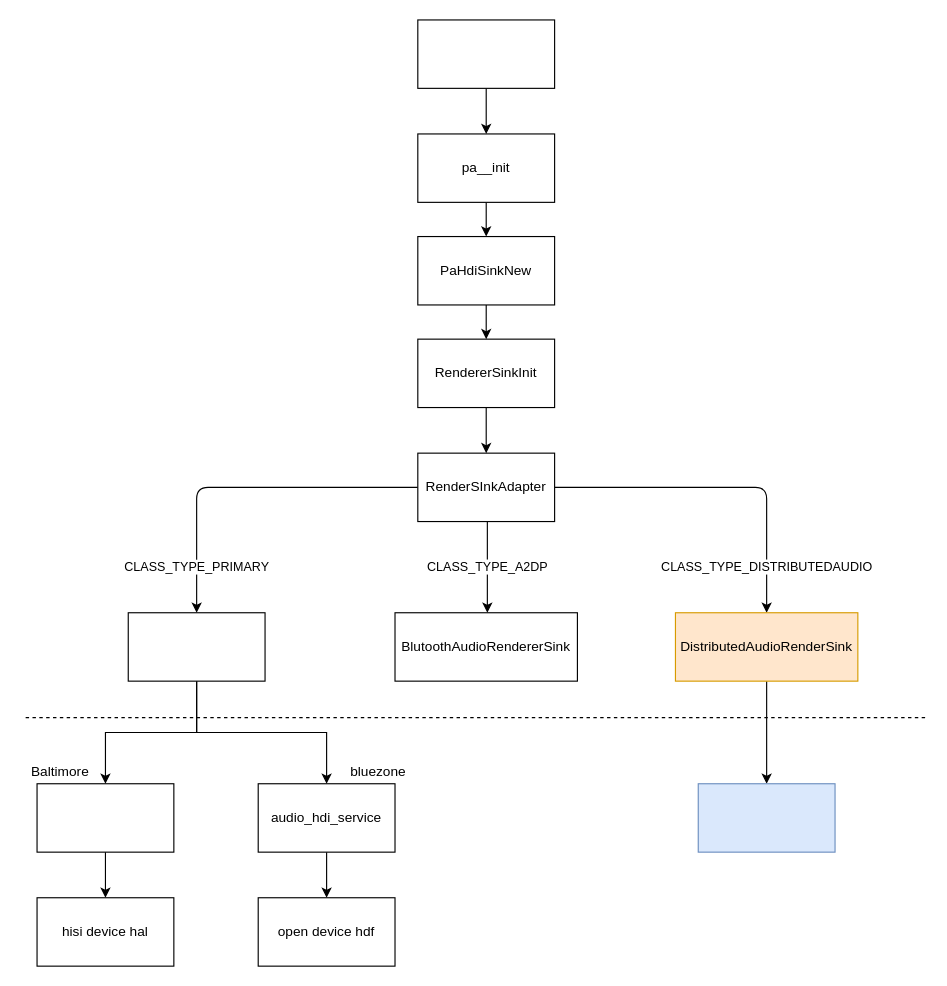
Some shapes in this 947 by 986 pixel diagram are drawn without their labels. Each missing label, with the centre of its shape:
"audio_adapter_service" belongs at point 105,817.
"AudioRendererSink" belongs at point 196,646.
"distributed_audio_ adapter_service" belongs at point 766,817.
"pa__main" belongs at point 486,53.
